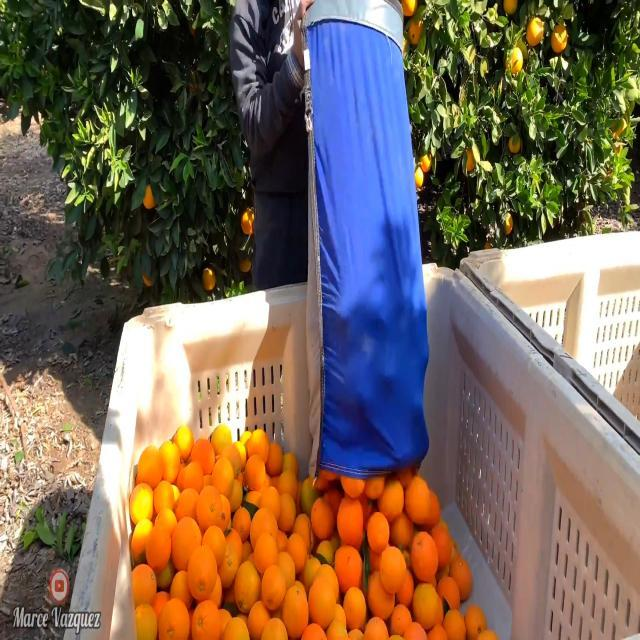Jeruk Sudah Matang: (504, 46, 526, 76), (526, 18, 544, 50), (140, 184, 160, 212), (550, 24, 568, 54), (460, 144, 476, 174), (236, 252, 255, 276), (421, 149, 437, 177), (240, 208, 256, 233), (502, 0, 520, 20), (406, 20, 422, 42), (402, 1, 422, 18), (202, 270, 216, 294), (509, 130, 521, 158), (504, 208, 514, 234)
